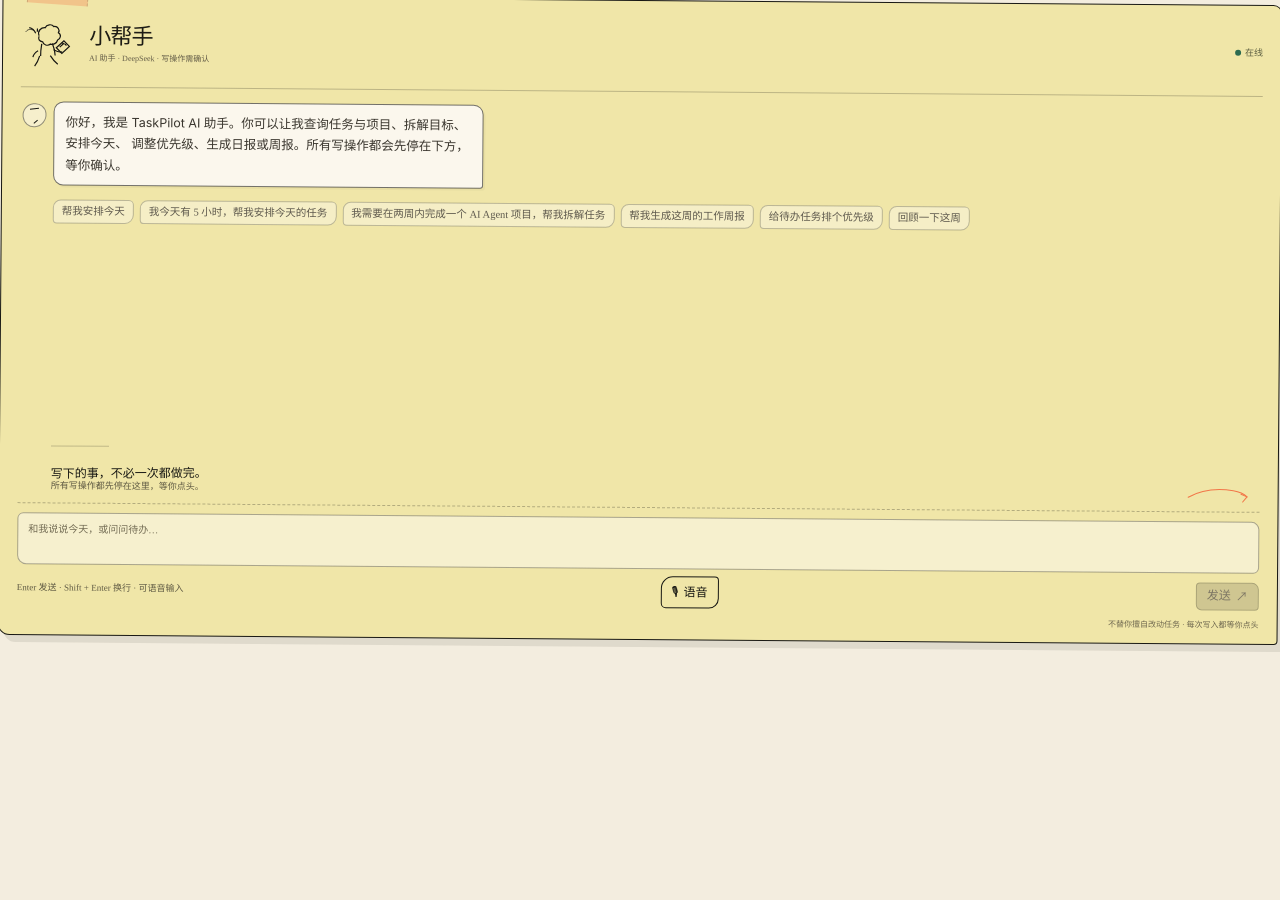
Scenario: AssistantPanel › streams a natural-language reply and persists the final message
Type "我还有哪些任务没有完成？" into the text box named "给 AI 助手发送消息".
click(638, 543); type("我还有哪些任务没有完成？")  # box [17, 512, 1260, 574]
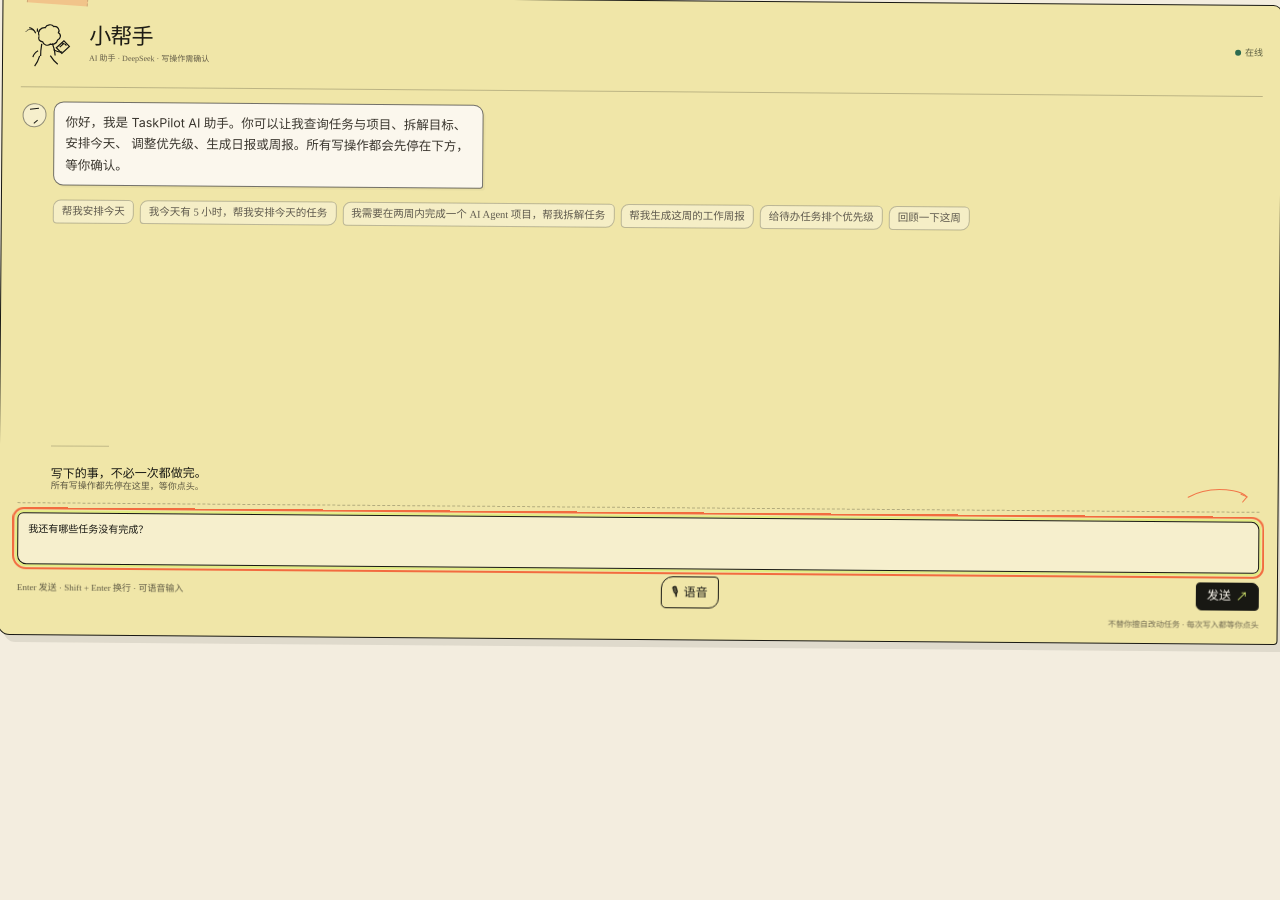
Click the button "发送 ↗".
click(1227, 597)  # box [1196, 583, 1259, 611]
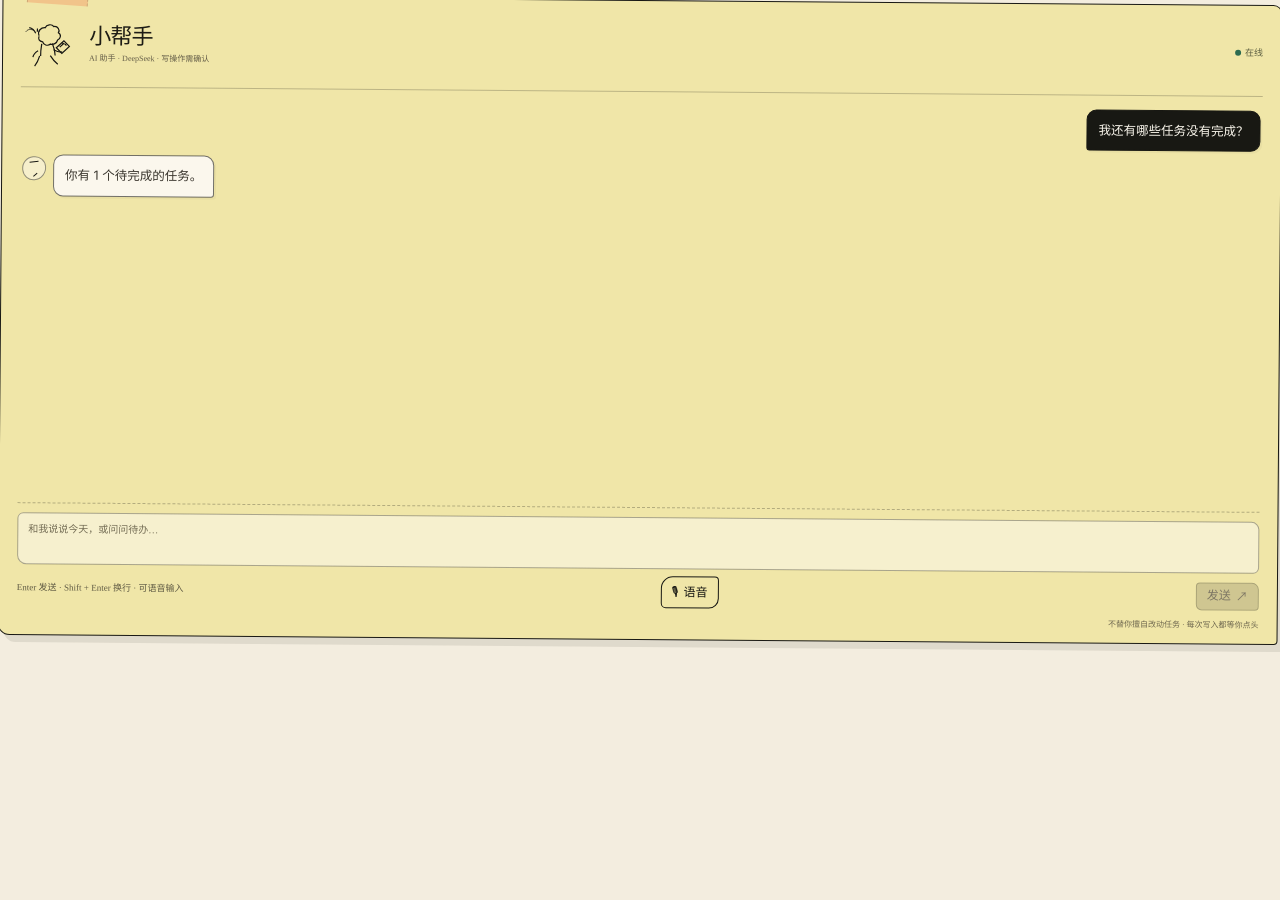
Expected: the text "你有 1 个待完成的任务。" is shown, [65, 165, 202, 187]
